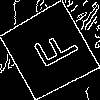F: (24, 26, 81, 75)
